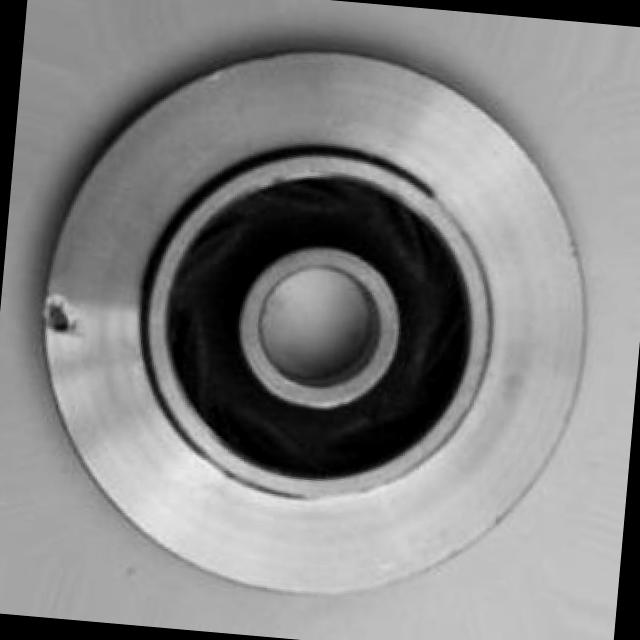Defect: (41, 294, 86, 341)
